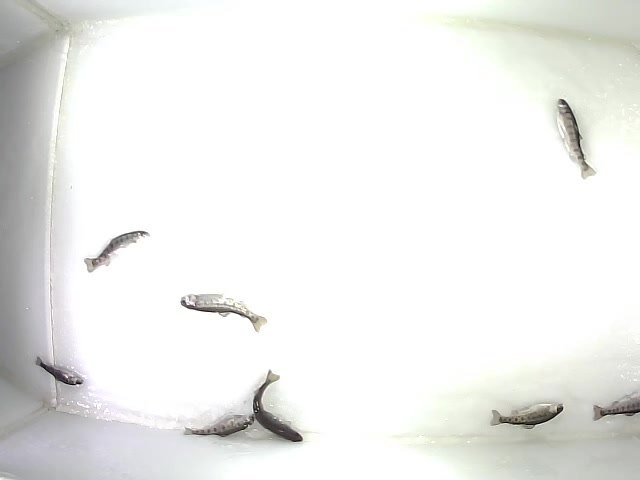fish: (179, 291, 269, 335), (252, 369, 305, 443), (554, 97, 597, 181), (83, 229, 152, 275), (489, 400, 565, 430), (181, 411, 256, 441), (33, 355, 85, 388)
